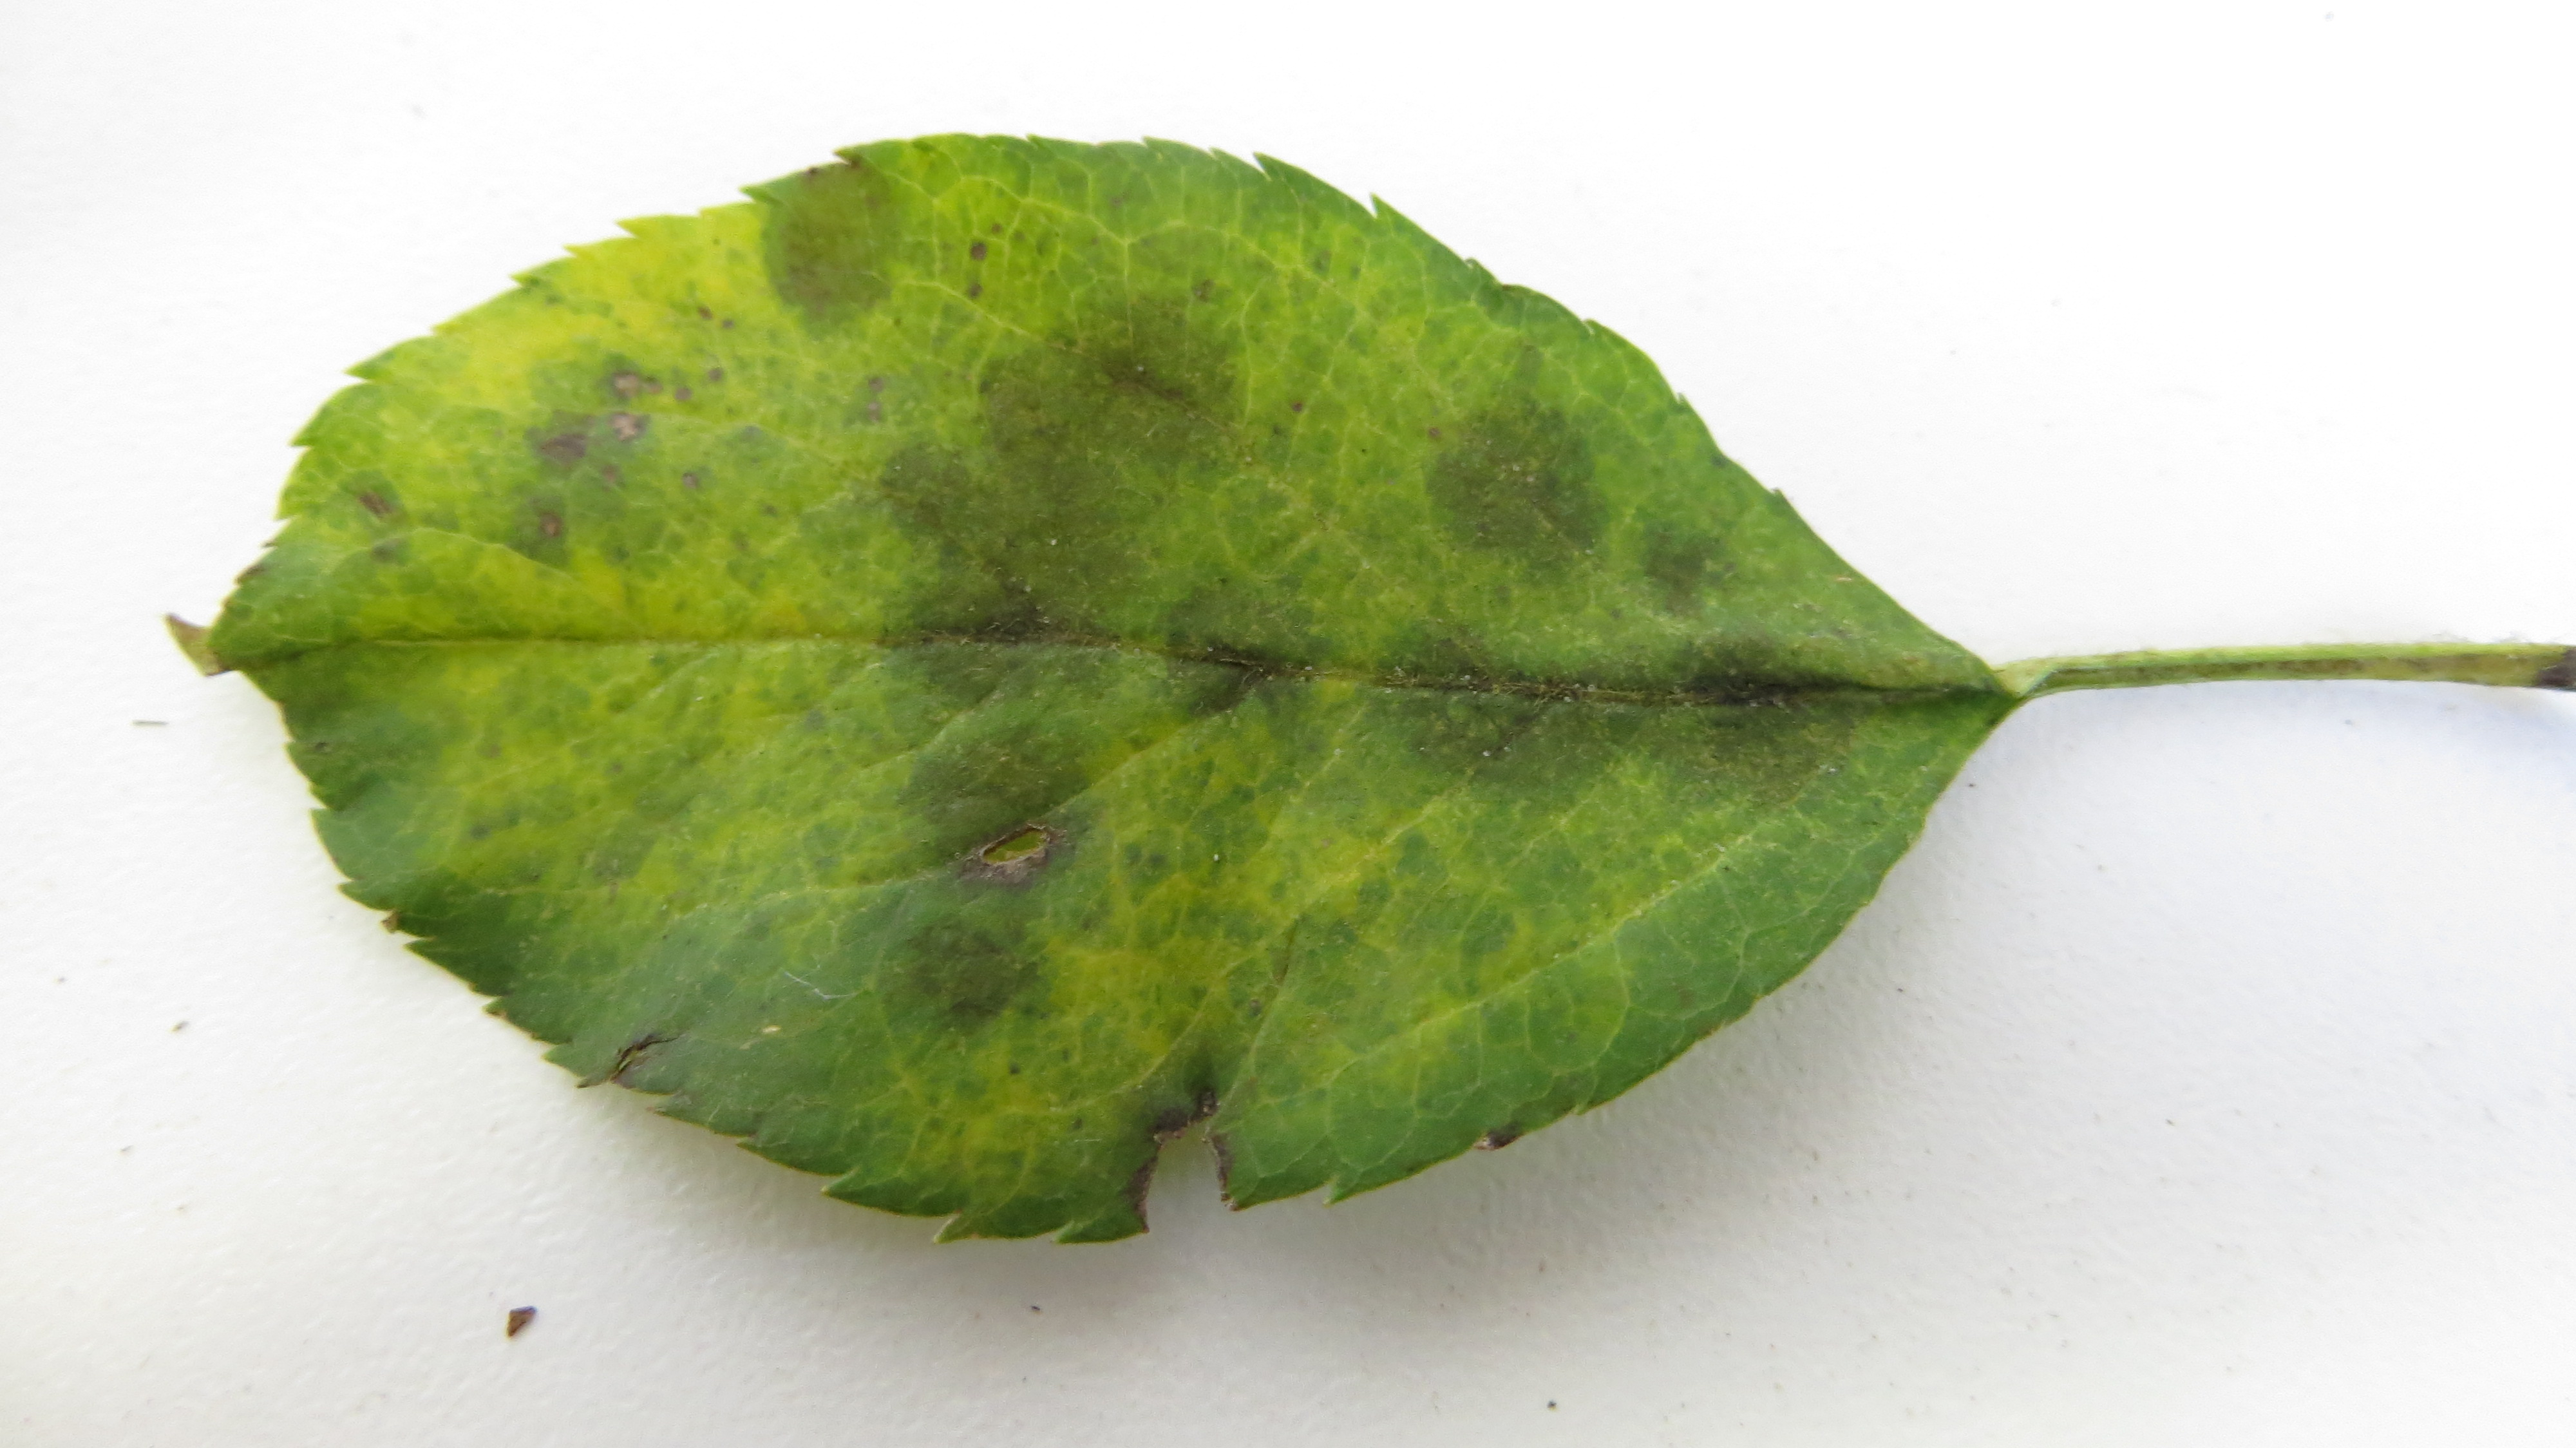sarna: (876, 444, 1134, 722), (1373, 597, 1667, 816), (959, 274, 1246, 485), (1148, 551, 1348, 761), (1419, 379, 1605, 579), (908, 719, 1102, 899), (741, 133, 908, 338), (1679, 625, 1868, 795), (890, 903, 1056, 1041), (1624, 490, 1736, 634), (517, 494, 603, 591), (596, 342, 672, 446), (525, 400, 600, 473)
